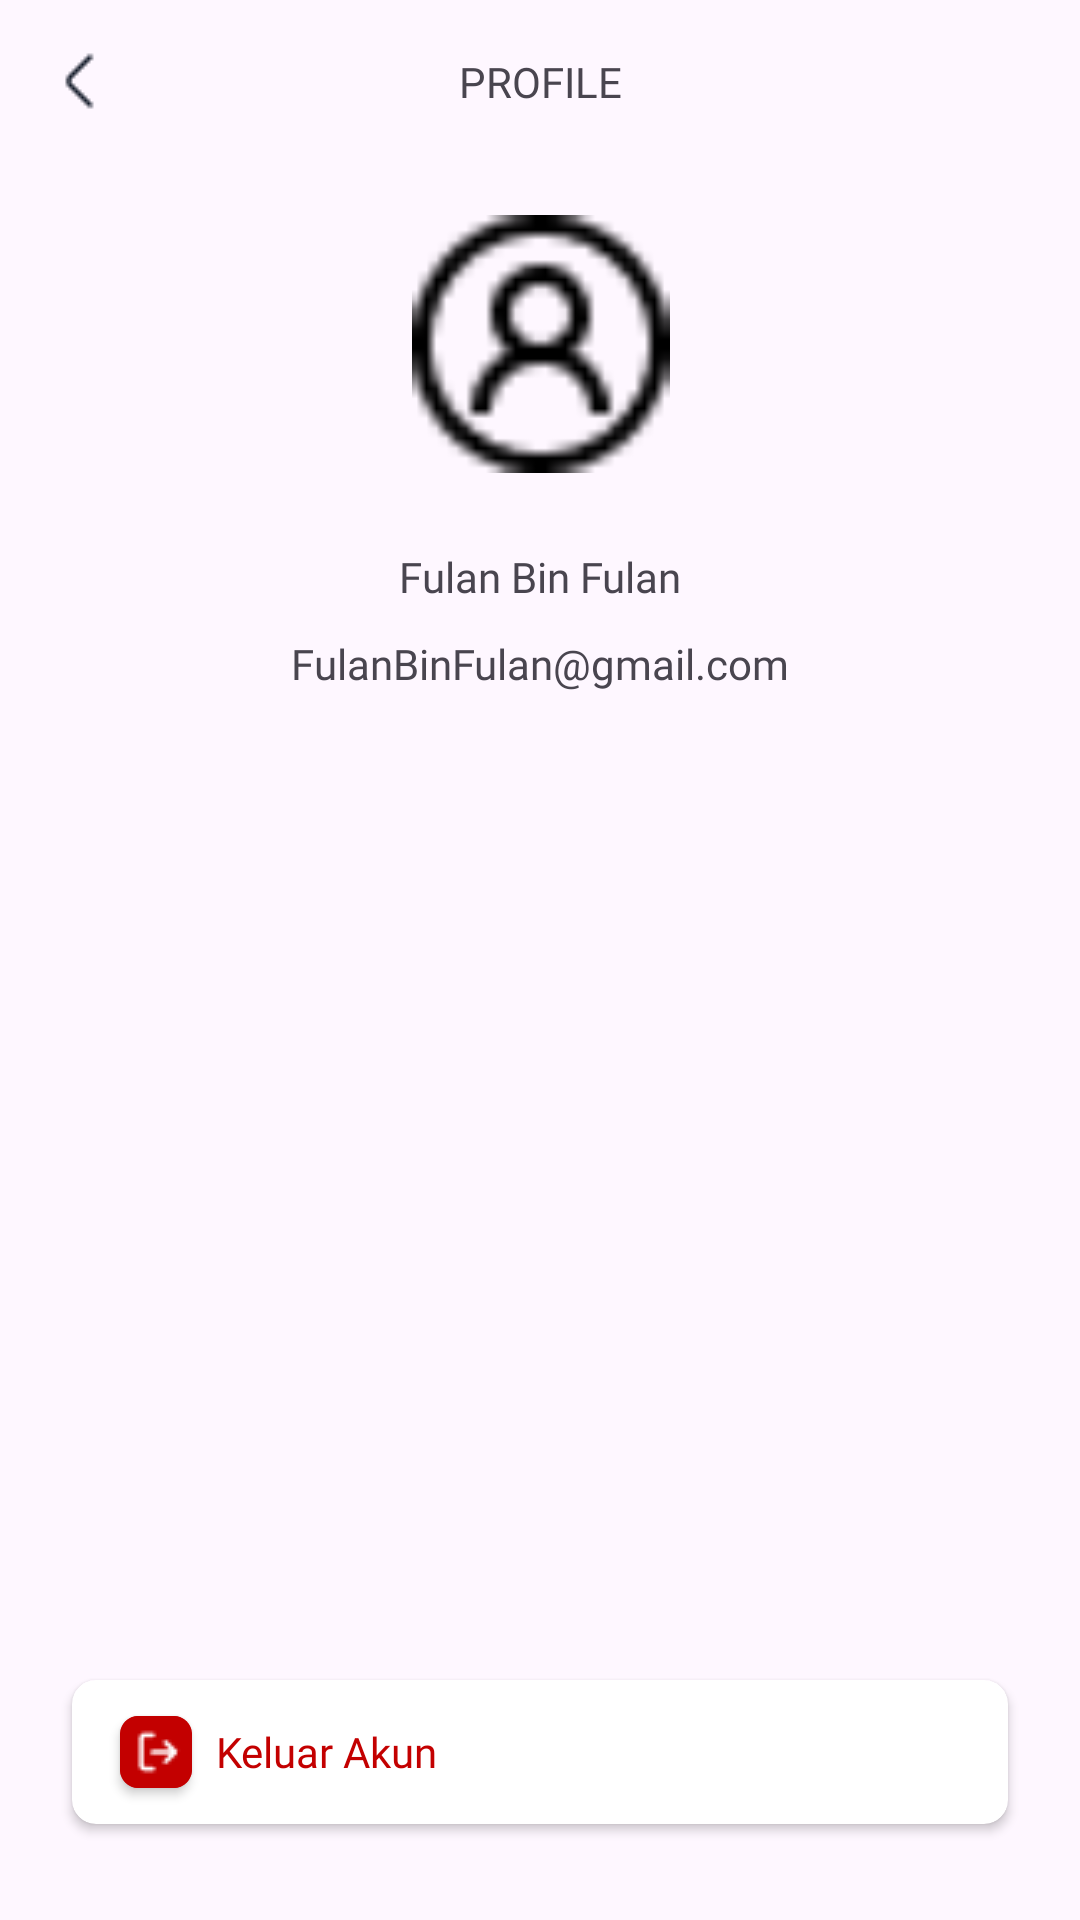

Locate icon controls on the screen. Image size 1080px x 1920px, boxes as (x1, y1, x2, y2).
back: (65, 53, 94, 109)
